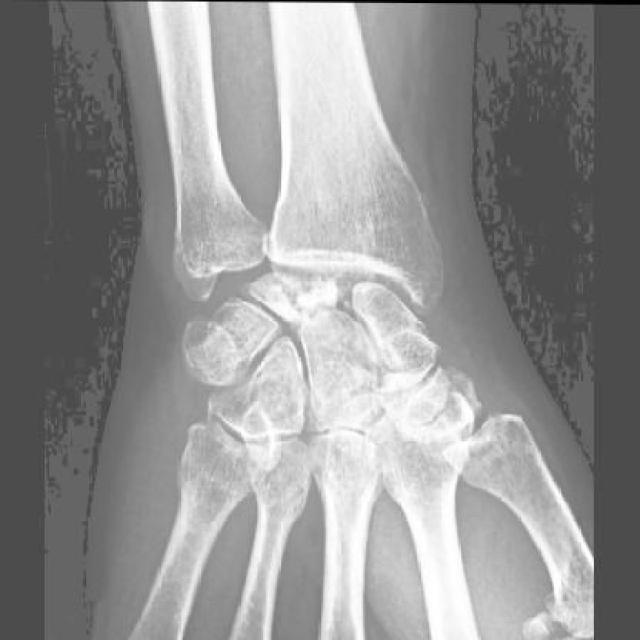bone: (262, 263, 347, 328)
